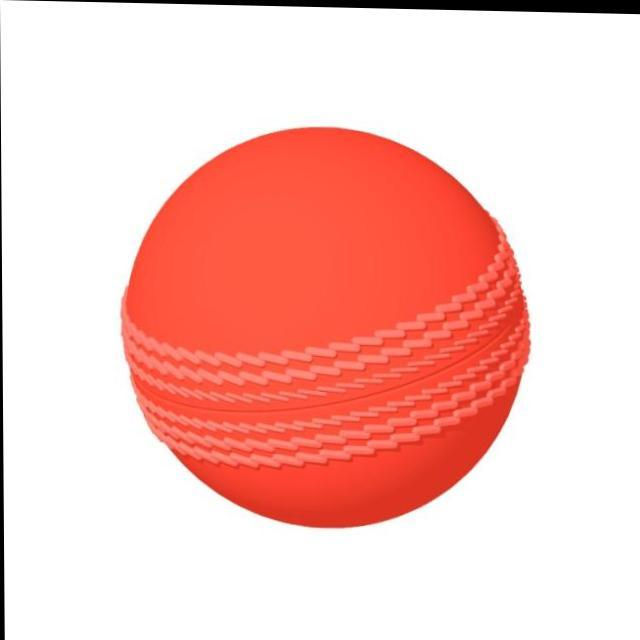cricket ball: (120, 125, 531, 526)
